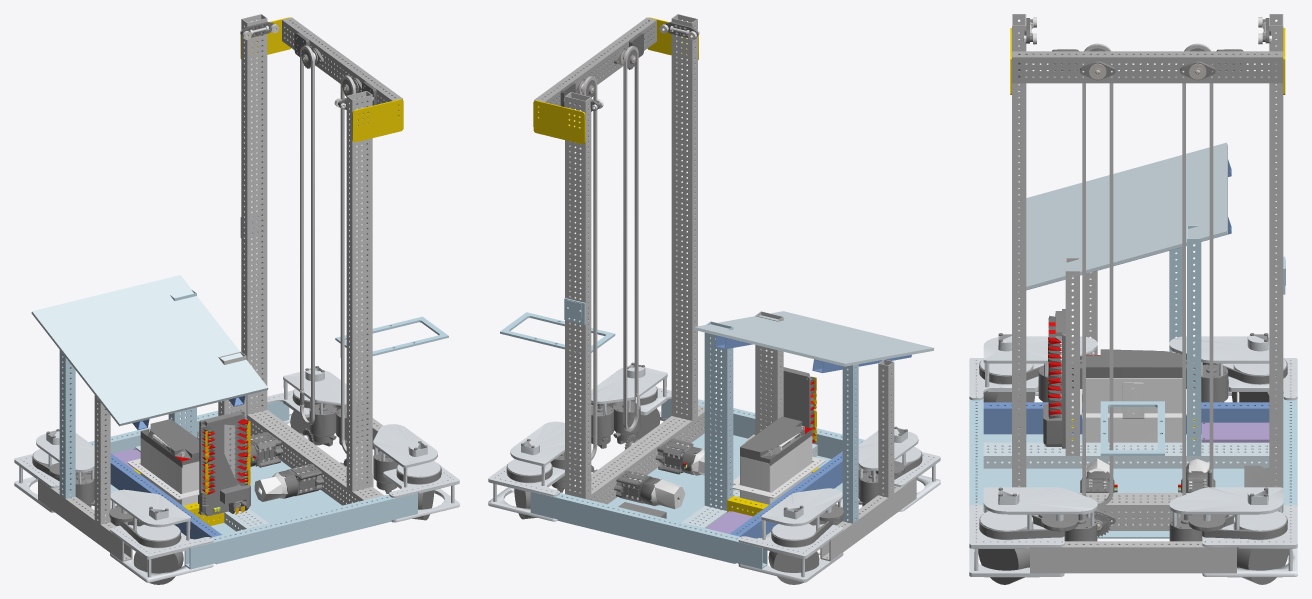
3 views of the same model, side by side, from view 1: azimuth 30°, elevation 25°; view 2: azimuth 150°, elevation 25°; view 3: azimuth 270°, elevation 25° (orthographic). The views are drawn at different scales.
Parts seen in each view (by area): view 1: geometry_12, geometry_20, geometry_0, geometry_16, geometry_4, geometry_15, geometry_18, geometry_3, geometry_29, geometry_17, geometry_21, geometry_6 (+4 smaller); view 2: geometry_12, geometry_0, geometry_16, geometry_4, geometry_20, geometry_15, geometry_3, geometry_18, geometry_17, geometry_29, geometry_21, geometry_28 (+2 smaller); view 3: geometry_12, geometry_20, geometry_16, geometry_0, geometry_4, geometry_29, geometry_3, geometry_17, geometry_15, geometry_1, geometry_22, geometry_21 (+5 smaller).
Part boxes in pixels (<box>): geometry_12: <box>38,14,383,561</box>; geometry_20: <box>31,275,268,531</box>; geometry_0: <box>59,215,448,569</box>; geometry_16: <box>14,367,459,582</box>; geometry_4: <box>32,366,441,584</box>; geometry_15: <box>140,419,324,496</box>; geometry_18: <box>134,17,403,525</box>; geometry_3: <box>98,433,373,521</box>; geometry_29: <box>282,17,402,104</box>; geometry_17: <box>110,395,245,539</box>; geometry_21: <box>198,21,376,517</box>; geometry_6: <box>202,424,248,511</box>; geometry_12: <box>565,14,916,561</box>; geometry_0: <box>500,298,864,569</box>; geometry_16: <box>488,364,940,582</box>; geometry_4: <box>506,362,922,584</box>; geometry_20: <box>682,311,934,528</box>; geometry_15: <box>614,416,812,503</box>; geometry_3: <box>731,433,891,512</box>; geometry_18: <box>533,17,818,516</box>; geometry_17: <box>715,335,911,538</box>; geometry_29: <box>534,17,656,117</box>; geometry_21: <box>560,21,702,505</box>; geometry_28: <box>650,449,722,509</box>; geometry_12: <box>983,14,1283,573</box>; geometry_20: <box>983,142,1276,468</box>; geometry_16: <box>969,334,1297,577</box>; geometry_0: <box>969,225,1297,538</box>; geometry_4: <box>978,309,1288,584</box>; geometry_29: <box>1012,51,1283,83</box>; geometry_3: <box>1071,350,1195,449</box>; geometry_17: <box>983,159,1276,434</box>; geometry_15: <box>1080,349,1215,512</box>; geometry_1: <box>1201,422,1276,449</box>; geometry_22: <box>1080,48,1215,536</box>; geometry_21: <box>1024,18,1270,492</box>.
Size of the model in its own units: 0.9176 by 1.04 by 0.5842.
